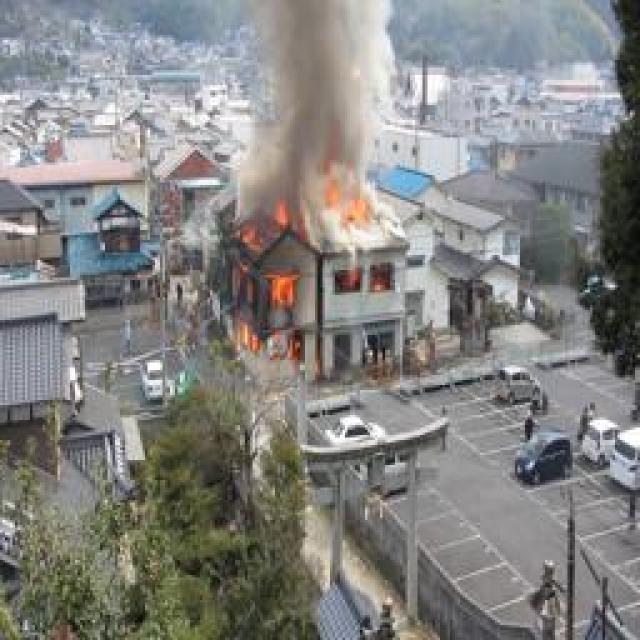Fire: (228, 222, 298, 369)
